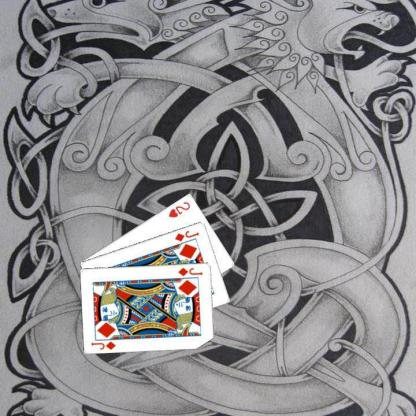2H: (166, 199, 191, 218)
JD: (172, 228, 200, 242), (89, 338, 117, 350), (176, 264, 203, 276)
